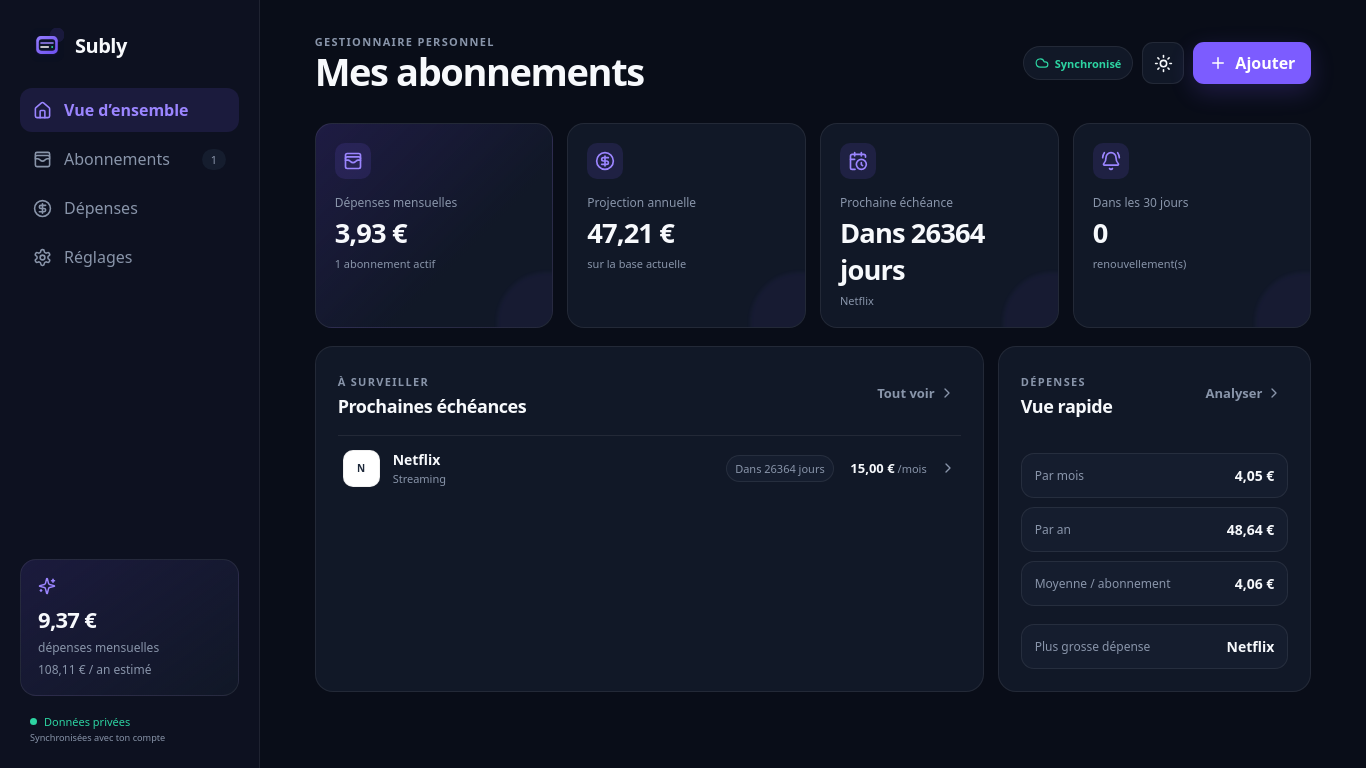
App — intégration › met à jour l’URL à chaque navigation
The width and height of the screenshot is (1366, 768).
expect the heading "Mes abonnements" is shown: met, box [315,51,644,93]
expect the navigation bar named "Navigation principale" is shown: met, box [20,88,239,279]
Click the button "Dépenses" at (130, 208), box [20,186,239,230]
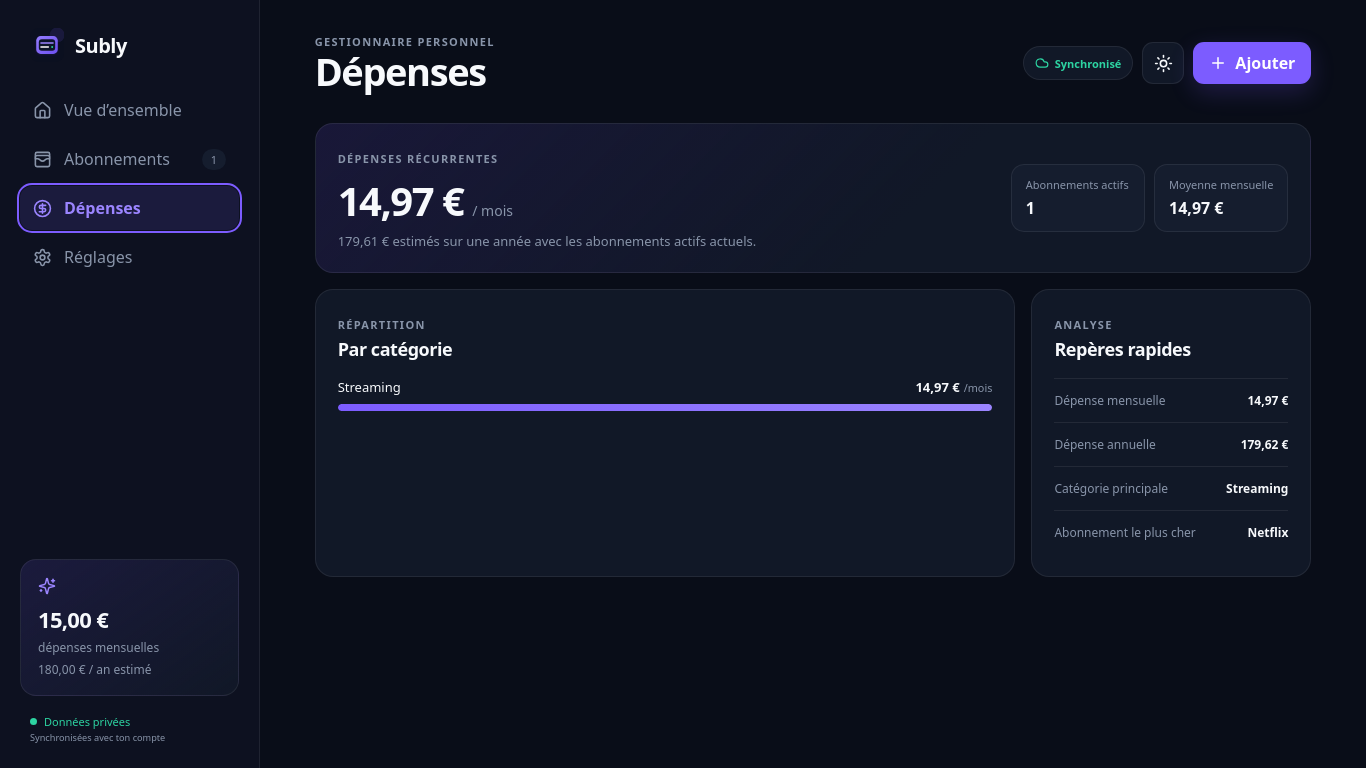
expect the heading "Dépenses" is shown: met, box [315,51,495,93]
